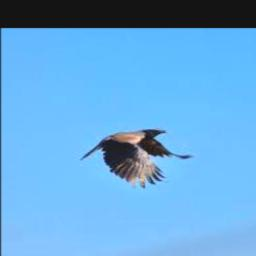Crow: (80, 128, 194, 188)
